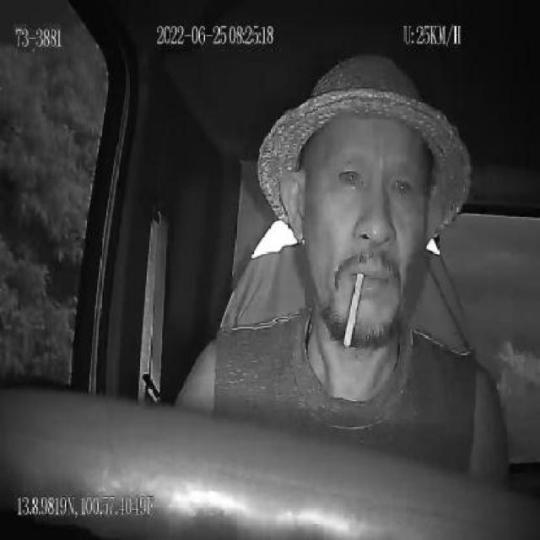smoking: (343, 264, 366, 345)
